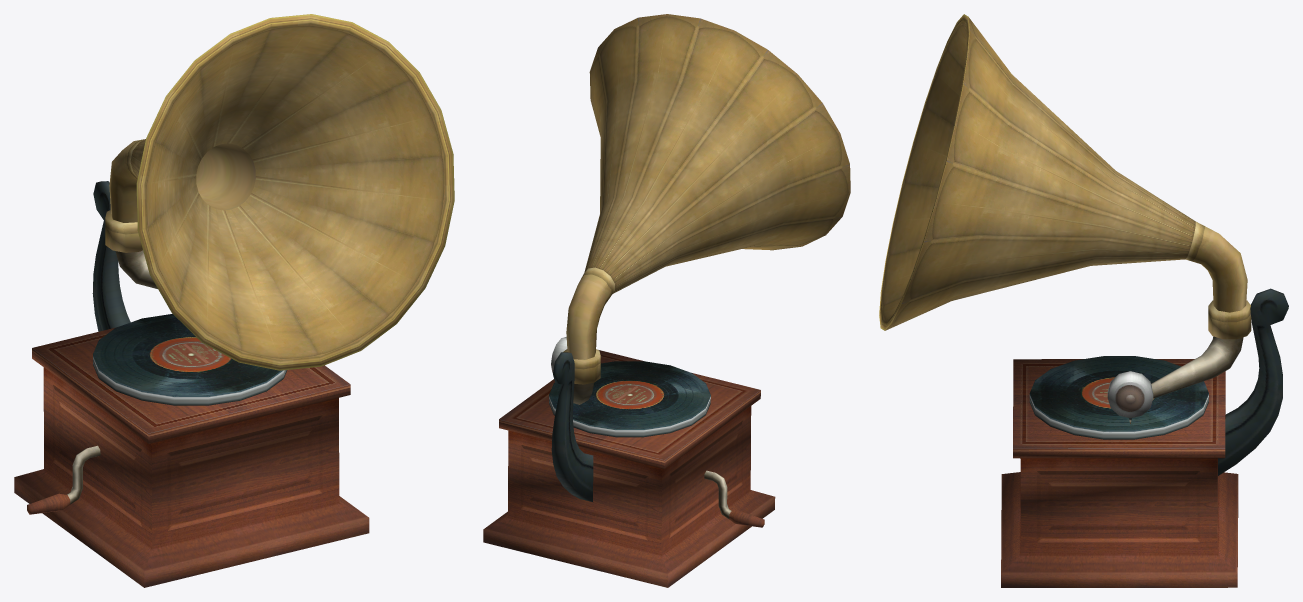
File: Gramophone.obj
3 renders of one model, left to right at view 1: azimuth 30°, elevation 25°; view 2: azimuth 150°, elevation 25°; view 3: azimuth 270°, elevation 25°, orthographic. The views are drawn at different scales.
Visible parts, largest first — view 1: gramophone; view 2: gramophone; view 3: gramophone.
Part boxes in pixels (x1=…): gramophone: x1=14, y1=14, x2=454, y2=587; gramophone: x1=483, y1=14, x2=850, y2=587; gramophone: x1=879, y1=14, x2=1288, y2=587.
Bounding box in the file's own units: 1.06 × 1.77 × 1.3.
1 material, 1 textured.
